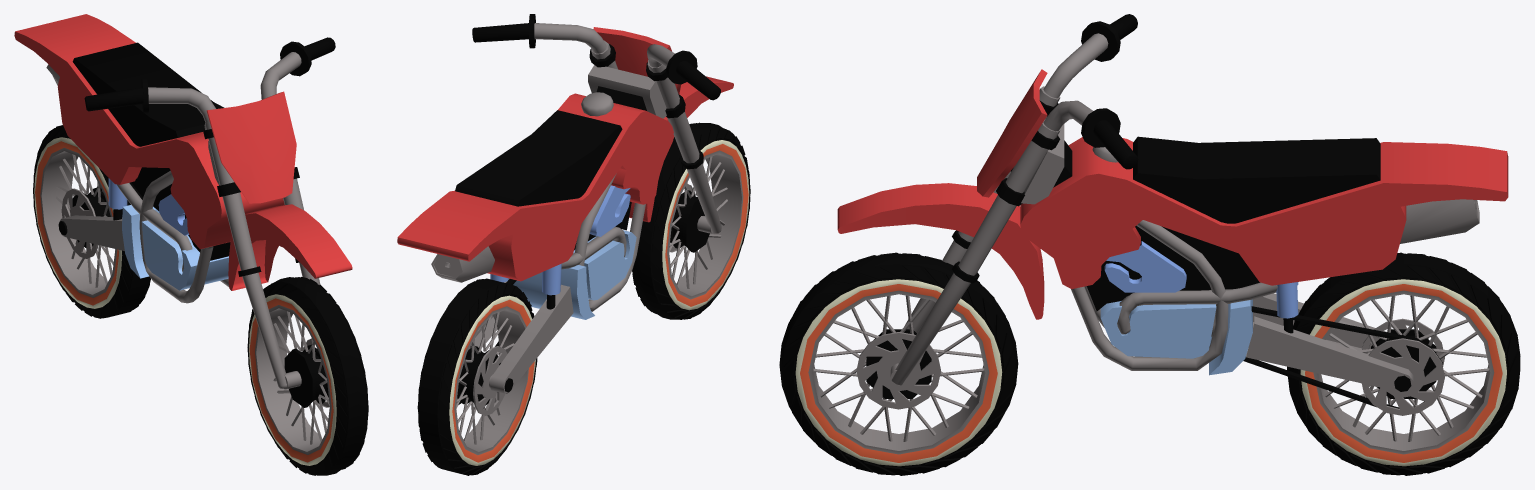
File: bike 2.fbx
3 views of the same model, side by side, from view 1: azimuth 30°, elevation 25°; view 2: azimuth 150°, elevation 25°; view 3: azimuth 270°, elevation 25° (orthographic). The views are drawn at different scales.
Visible parts, largest first — view 1: body.008, tyre.006, tyre.007; view 2: body.008, tyre.007, tyre.006; view 3: body.008, tyre.006, tyre.007.
Part boxes in pixels (x1=…): body.008: x1=14, y1=14, x2=352, y2=388; tyre.006: x1=247, y1=277, x2=368, y2=475; tyre.007: x1=33, y1=125, x2=150, y2=318; body.008: x1=397, y1=14, x2=733, y2=404; tyre.007: x1=417, y1=278, x2=537, y2=475; tyre.006: x1=632, y1=122, x2=750, y2=319; body.008: x1=837, y1=14, x2=1508, y2=408; tyre.006: x1=779, y1=252, x2=1018, y2=475; tyre.007: x1=1287, y1=252, x2=1520, y2=475.
Bounding box in the file's own units: 1.04 × 1.37 × 2.27.
